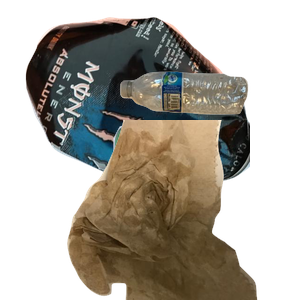glass: (107, 120, 278, 300)
metal: (23, 15, 263, 195)
plastic: (118, 69, 300, 176)
trash: (65, 120, 300, 300)
